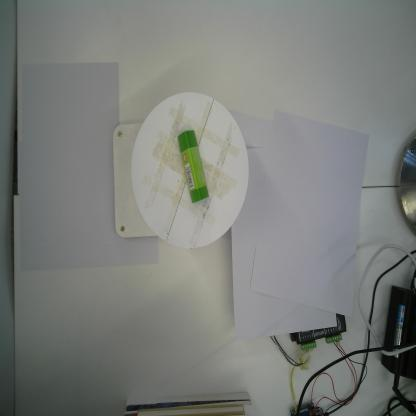Stationery: (176, 127, 210, 206)
